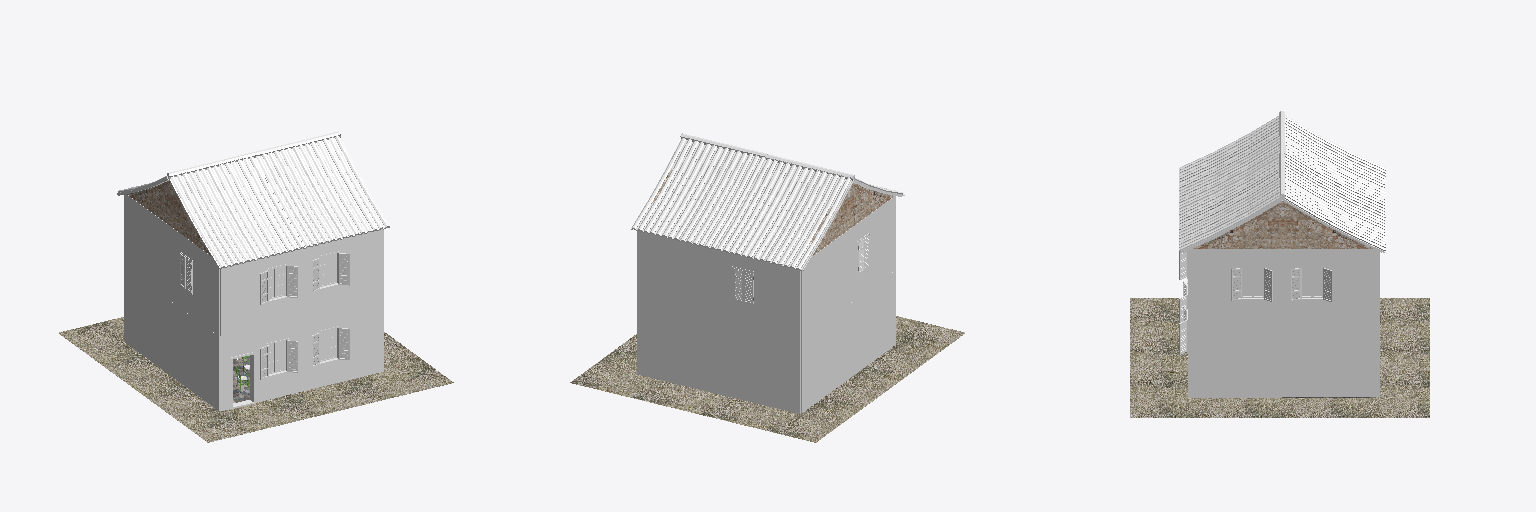
3 views of the same model, side by side, from view 1: azimuth 30°, elevation 25°; view 2: azimuth 150°, elevation 25°; view 3: azimuth 270°, elevation 25° (orthographic).
Visible parts, largest first — view 1: Box22, Plane02, Line02, Line07, Rectangle03, Box54, Box53, Box14; view 2: Box22, Plane02, Line09, Line11, Rectangle03, Box53, Box54; view 3: Box22, Plane02, Line11, Line07, Line09, Line02, Rectangle03, Box134, Box135.
Boxes of the visible parts, box(x1,y1,x2,y2) form: Box22: box(124, 194, 383, 410); Plane02: box(59, 317, 453, 442); Line02: box(169, 157, 304, 268); Line07: box(255, 136, 389, 247); Rectangle03: box(179, 251, 349, 408); Box54: box(127, 181, 171, 226); Box53: box(172, 186, 210, 255); Box14: box(233, 357, 249, 402); Box22: box(637, 196, 895, 413); Plane02: box(570, 316, 964, 442); Line09: box(717, 159, 852, 270); Line11: box(631, 138, 765, 248); Rectangle03: box(732, 233, 869, 305); Box53: box(849, 183, 893, 228); Box54: box(811, 192, 848, 255); Box22: box(1188, 249, 1379, 397); Plane02: box(1130, 298, 1429, 417); Line11: box(1284, 157, 1385, 252); Line07: box(1179, 158, 1280, 252); Line09: box(1285, 115, 1385, 208); Line02: box(1179, 116, 1279, 208); Rectangle03: box(1179, 251, 1331, 354); Box134: box(1283, 201, 1372, 248); Box135: box(1194, 201, 1282, 248).
Bounding box in the file's own units: 12.08 × 9.64 × 12.78.
29 materials, 11 textured.